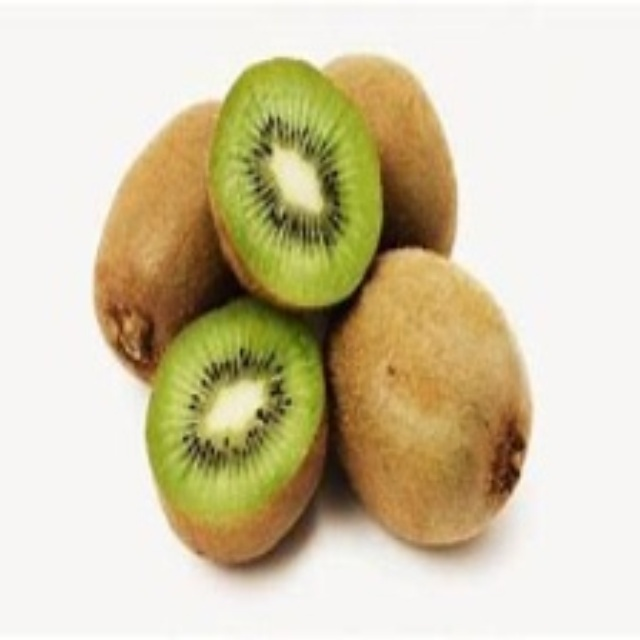kiwi: (318, 246, 549, 555), (143, 304, 324, 582), (201, 53, 387, 309), (93, 92, 257, 369), (312, 37, 478, 274)
